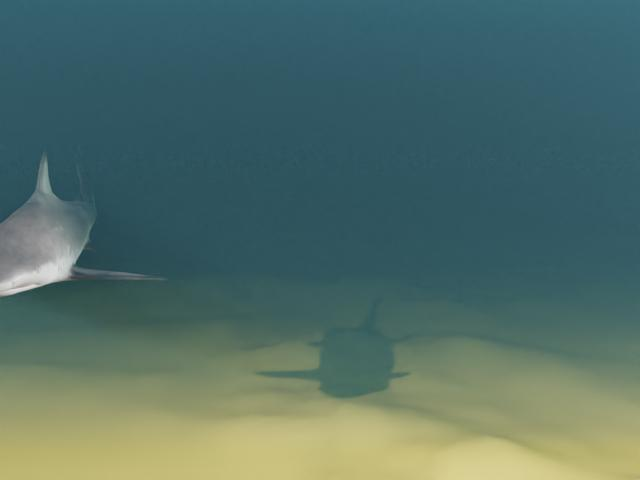Carribean Shark.001: (0, 141, 167, 296)
